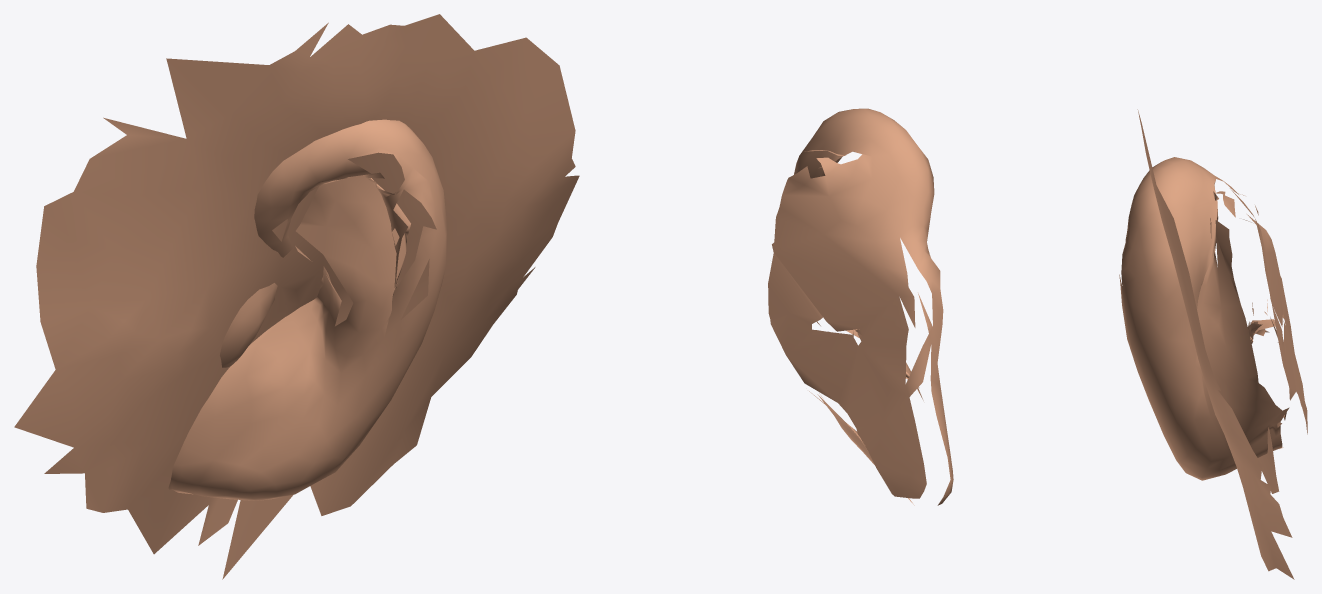
Rendered from ear-l.glb.
The picture shows the model from 3 angles, left to right: view 1: azimuth 30°, elevation 25°; view 2: azimuth 150°, elevation 25°; view 3: azimuth 270°, elevation 25°; orthographic projection. The views are drawn at different scales.
Visible parts, largest first — view 1: skin; view 2: skin; view 3: skin.
Part boxes in pixels (x1,y1,x2,y2): skin: [14, 14, 579, 579]; skin: [768, 108, 953, 505]; skin: [1119, 109, 1307, 579].
Size of the model in its own units: 0.0946 by 0.0972 by 0.0324.
